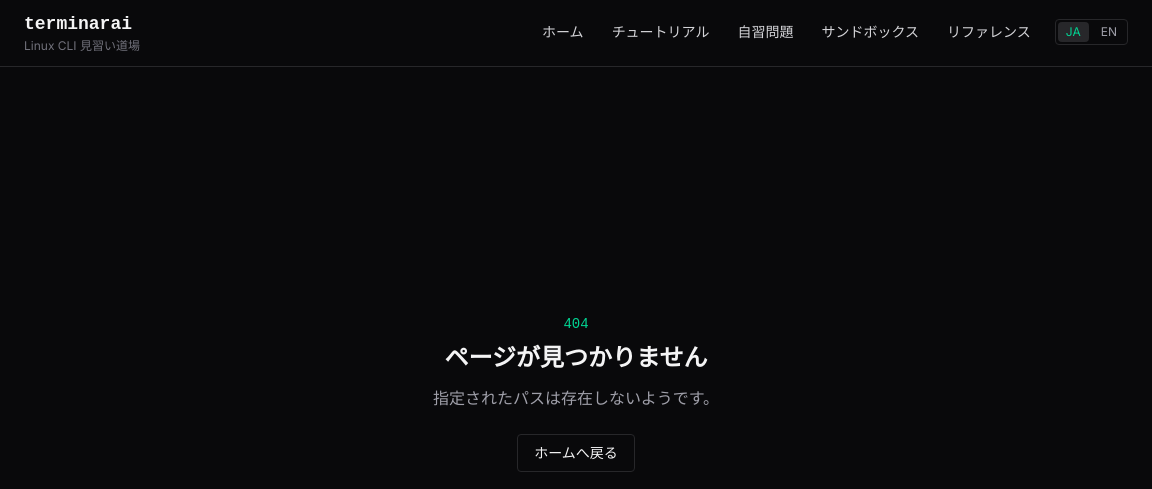
Test: App routing › 404 ページから「ホームへ戻る」で / に遷移
Click the link "ホームへ戻る" at (576, 452), box [517, 434, 635, 472]
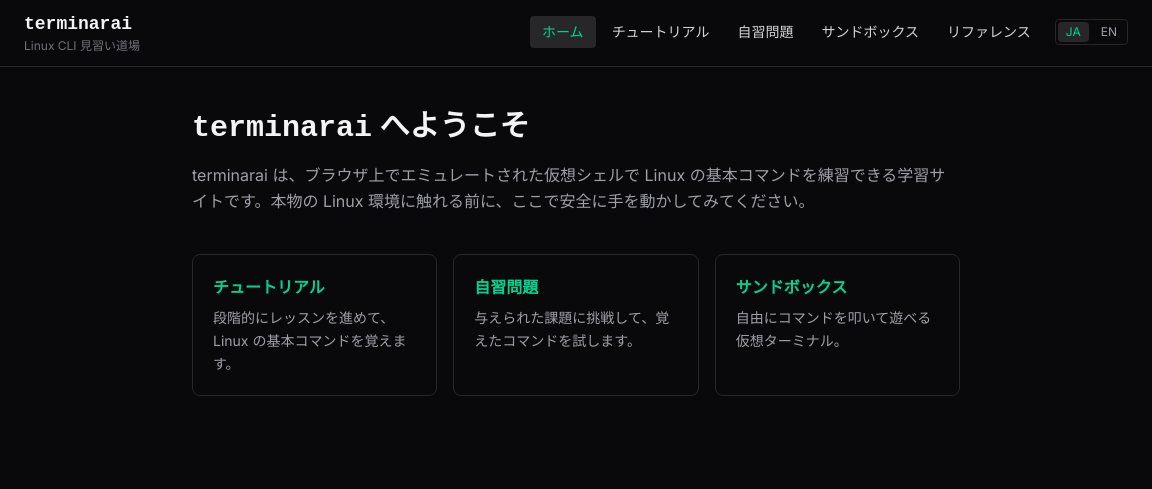
Expected: the heading "terminarai へようこそ" is shown, [192, 107, 530, 145]
